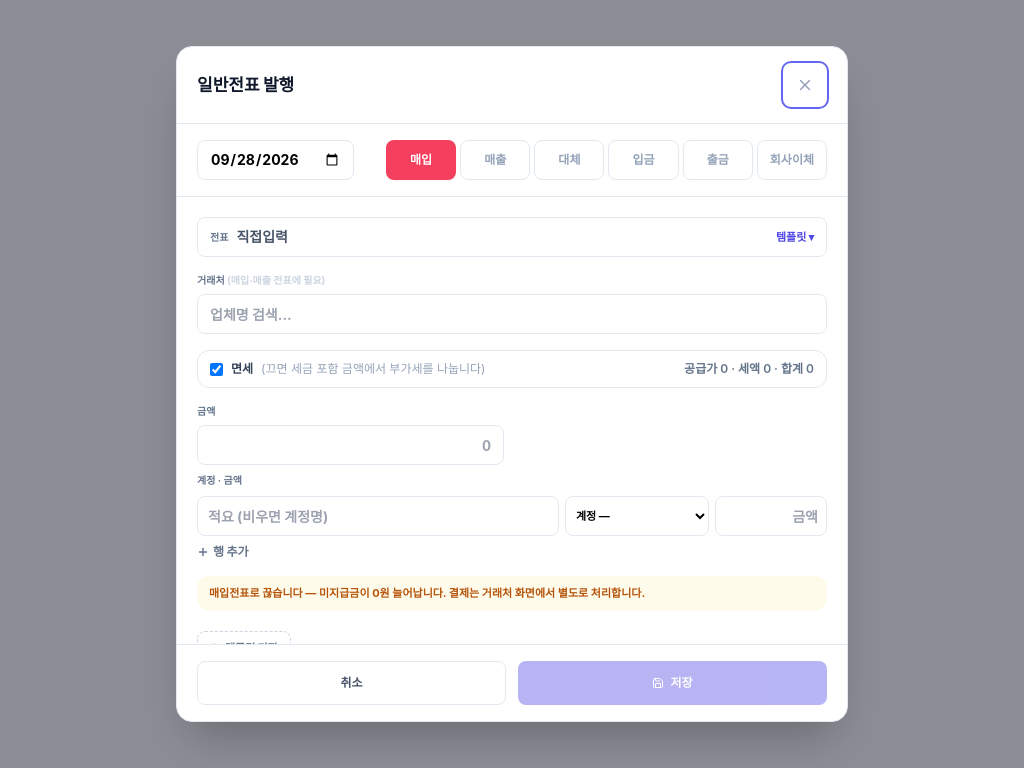
Scenario: 종류와 거래처가 독립인 실제 전표 작성 › 거래처가 비어 있는 매입 템플릿도 과세 선택은 유지한다
Click the button "전표 직접입력 템플릿 ▾". click: (262, 237)
box: x1=197 y1=217 x2=827 y2=257
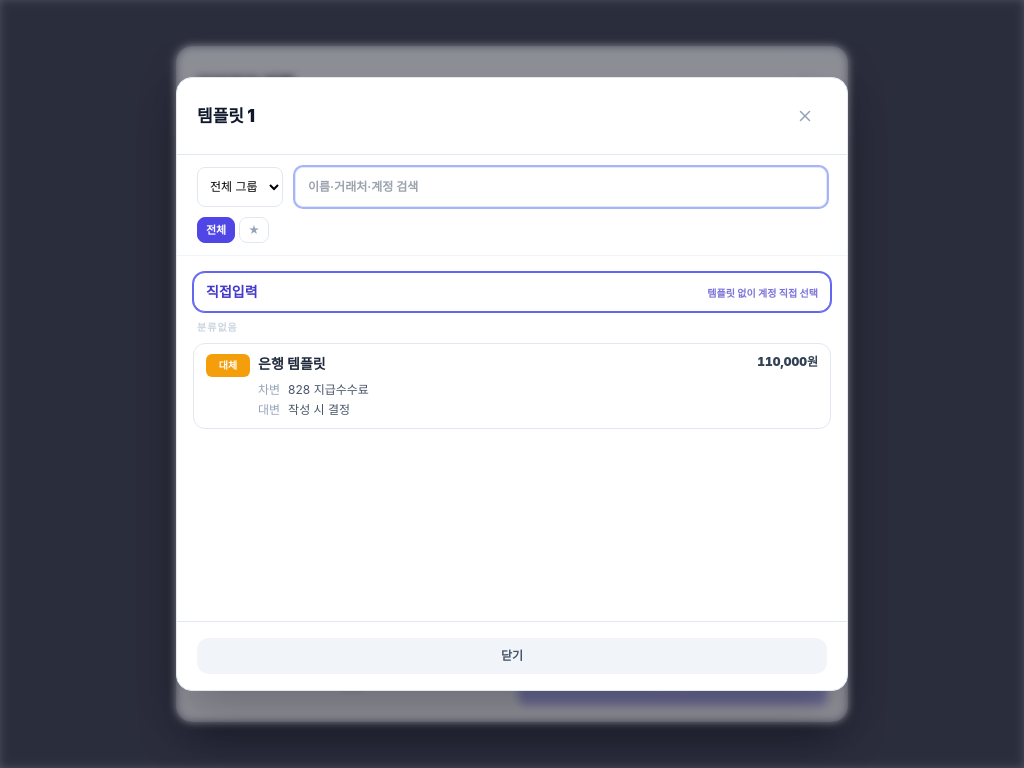
Click the button "대체 은행 템플릿 차변 828 지급수수료 대변 작성 시 결정 110,000원". click: (228, 365)
box: x1=193 y1=343 x2=831 y2=429
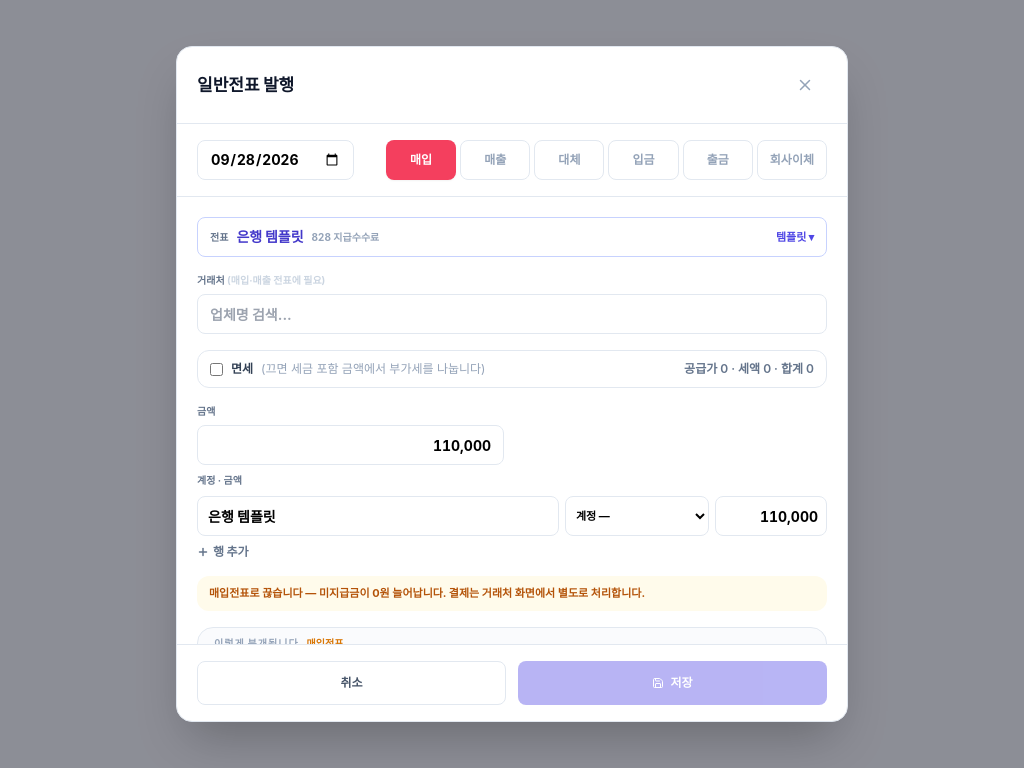
Check: the button "저장" is disabled, box x1=518 y1=661 x2=827 y2=705
Check: the checkbox labelled "면세 (끄면 세금 포함 금액에서 부가세를 나눕니다)" is not checked, box x1=210 y1=363 x2=223 y2=376
